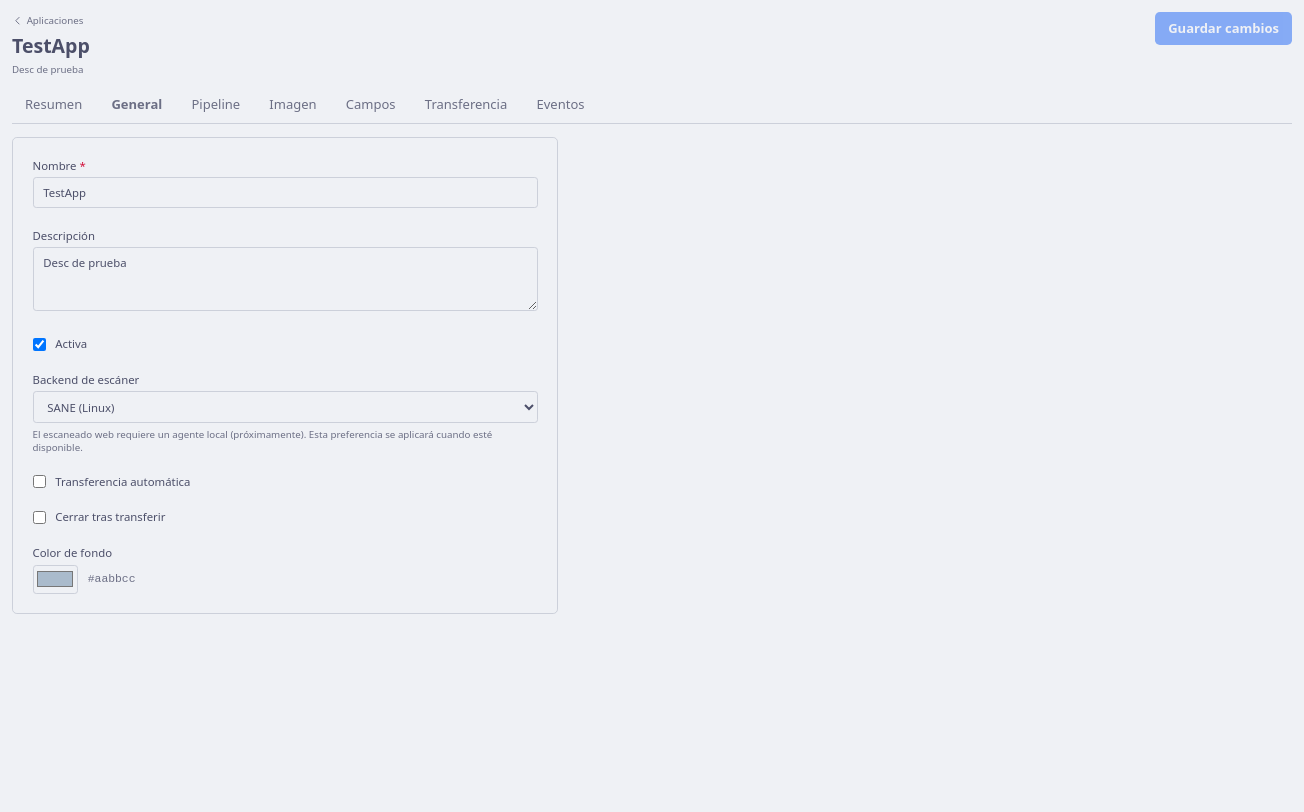
Test: GeneralConfigEditorView › 2. cambiar nombre activa hasChanges y habilita el botón guardar
Check: the button with test id "save-general" is disabled, box x1=1155 y1=12 x2=1292 y2=44
Replace the text in the field with test id "field-name" with "NuevoNombre" at coordinates (285, 193), box x1=32 y1=177 x2=538 y2=208
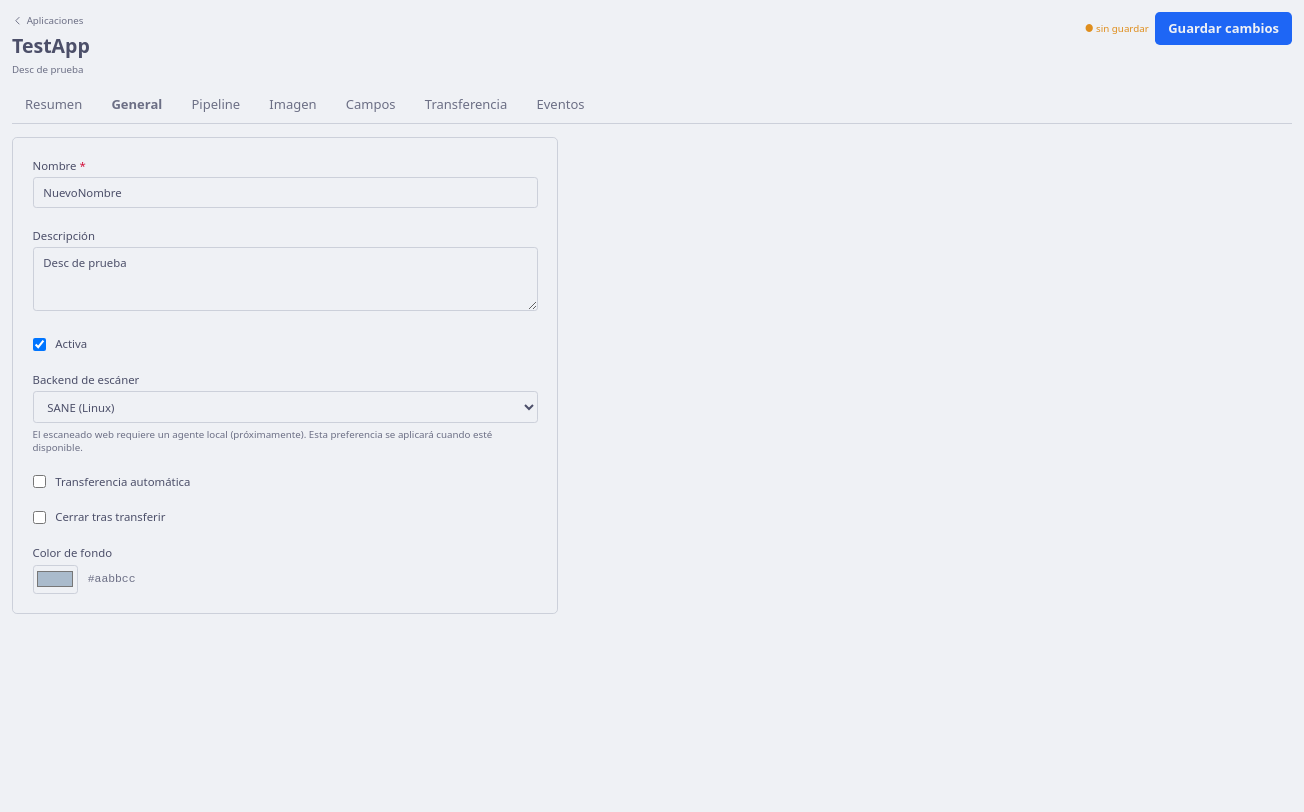
Check: the button with test id "save-general" is enabled, box x1=1155 y1=12 x2=1292 y2=44
